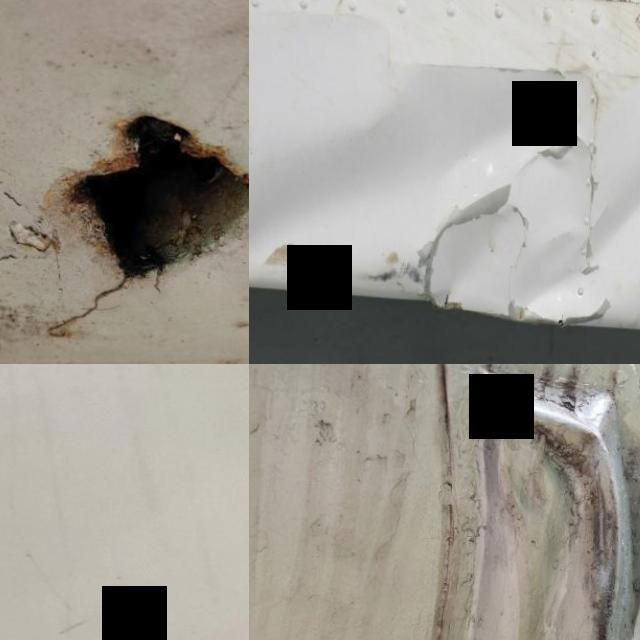Crack: (23, 78, 249, 364)
Dent: (249, 58, 581, 260), (451, 364, 640, 640), (505, 177, 640, 308), (434, 213, 510, 304)
